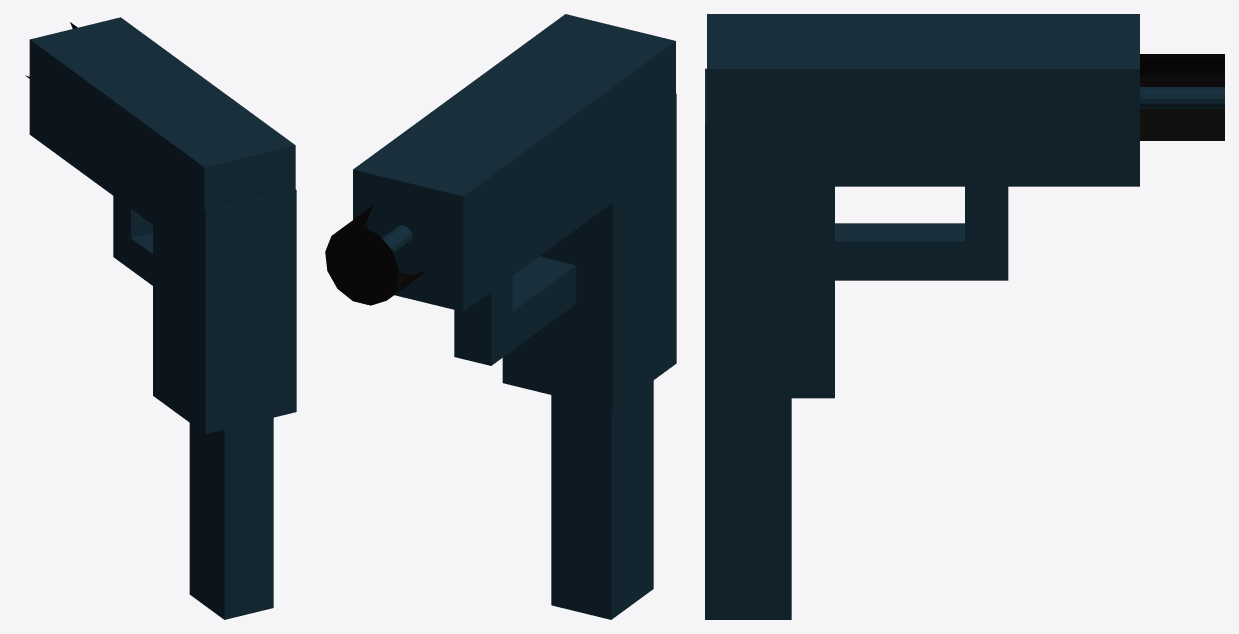
The model's file is gun.glb.
3 views of the same model, side by side, from view 1: azimuth 30°, elevation 25°; view 2: azimuth 150°, elevation 25°; view 3: azimuth 270°, elevation 25° (orthographic). The views are drawn at different scales.
Visible parts, largest first — view 1: cube (×5); view 2: cube (×5), tube; view 3: cube (×5), tube.
Boxes of the visible parts, x1,y1,x2,y2 form: cube (×5): [29, 17, 296, 619]; cube (×5): [353, 14, 676, 619]; tube: [325, 206, 427, 305]; cube (×5): [705, 14, 1139, 619]; tube: [1140, 54, 1224, 140].
Size of the model in its own units: 0.0188 by 0.0899 by 0.075.
Materials: 1 (1 with a texture image).
